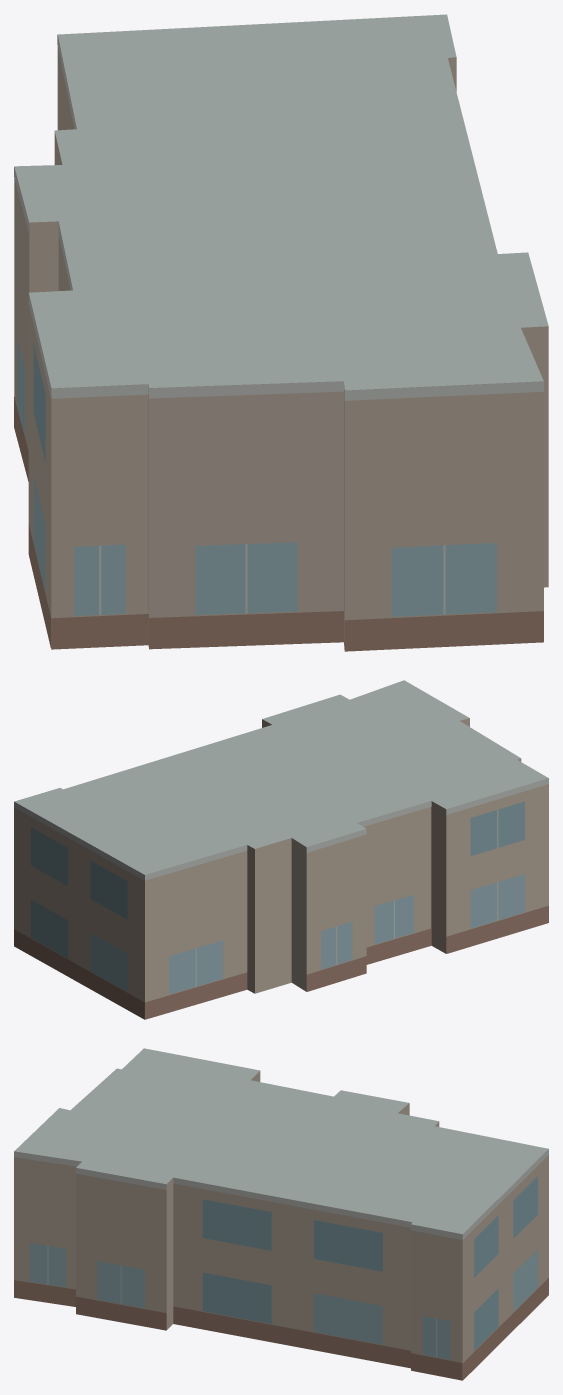
The model's file is survey-upis-32672317.glb.
3 views of the same model, one above another, from view 1: azimuth 30°, elevation 25°; view 2: azimuth 150°, elevation 25°; view 3: azimuth 270°, elevation 25° (orthographic). The views are drawn at different scales.
Parts seen in each view (by area): view 1: survey-upis-32672317.tmp; view 2: survey-upis-32672317.tmp; view 3: survey-upis-32672317.tmp.
Boxes of the visible parts, x1,y1,x2,y2 form: survey-upis-32672317.tmp: (14, 14, 548, 651); survey-upis-32672317.tmp: (14, 680, 548, 1019); survey-upis-32672317.tmp: (14, 1048, 548, 1380).
Bounding box in the file's own units: 16.64 × 6.1 × 20.21.
